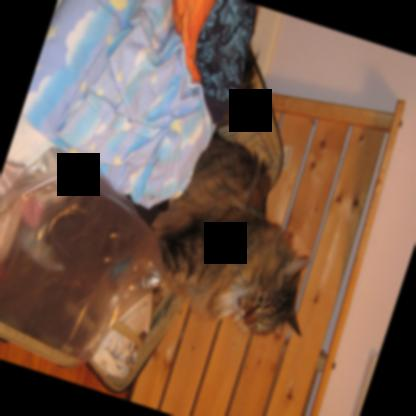suitcase: (87, 48, 285, 395)
